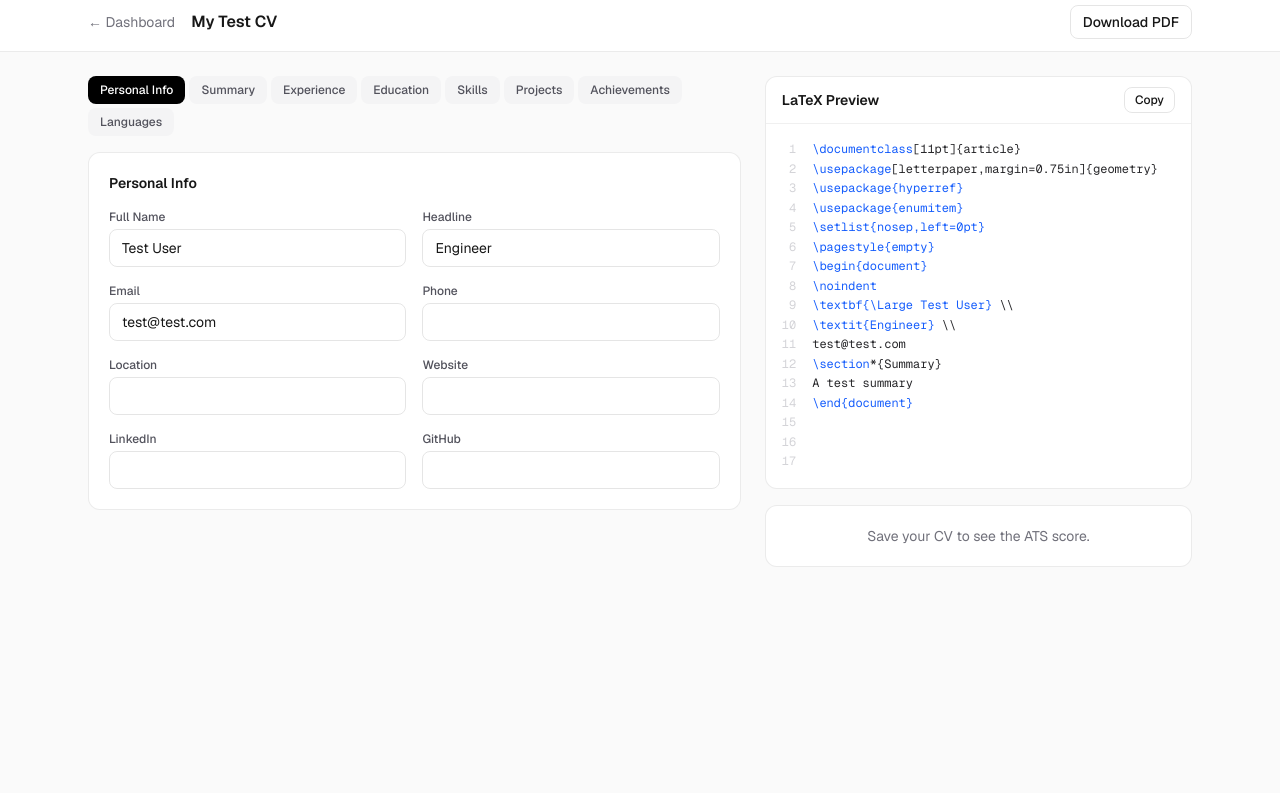
Test case: EditorClient › editing summary updates LaTeX preview and ATS score via composed runtime
expect the heading "My Test CV" is shown: met, box left=191, top=10, right=277, bottom=34
expect the heading "LaTeX Preview" is shown: met, box left=782, top=90, right=879, bottom=110
Click the Summary tab to access the text editor
Click the button "Summary": (228, 90) left=189, top=76, right=267, bottom=104
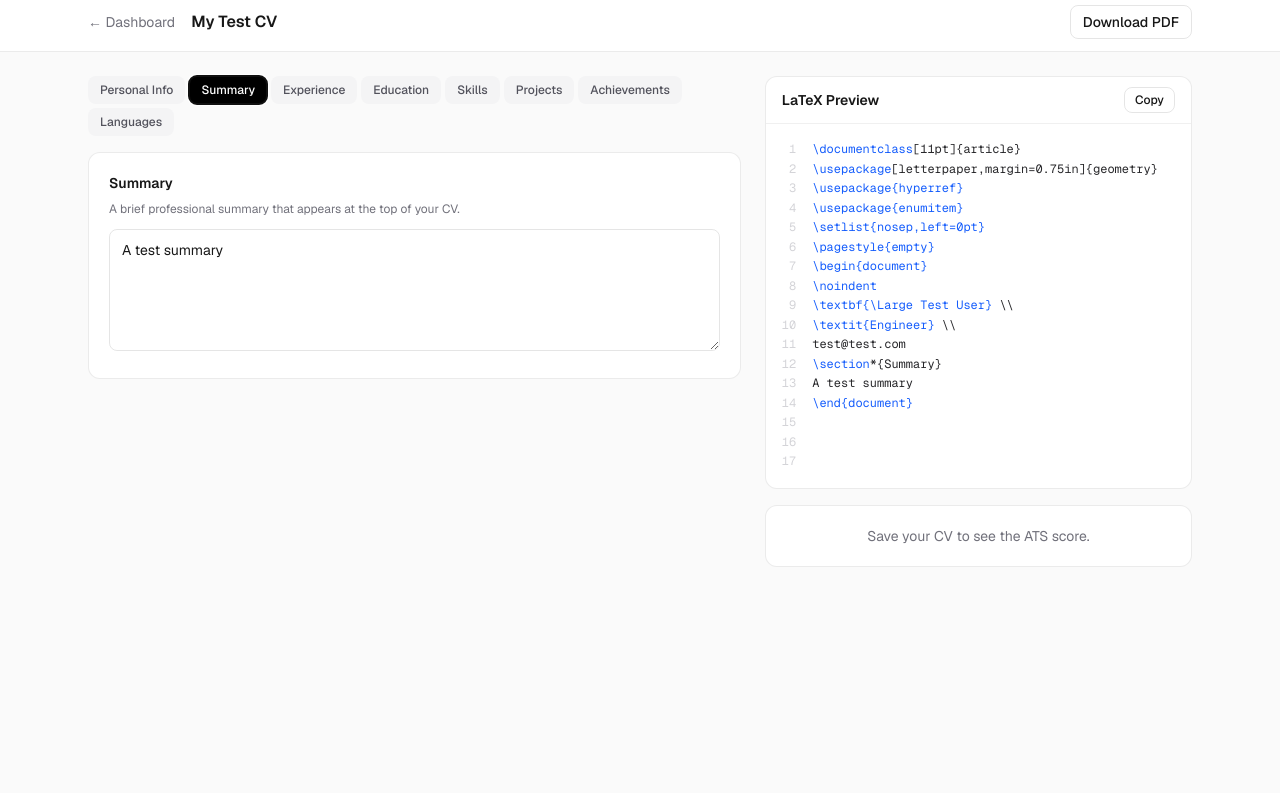
Replace the text in the text box with placeholder "Experienced software engineer with a passion for..." with "A much more professional summary": (414, 290) left=109, top=229, right=720, bottom=351
(page scrolled)
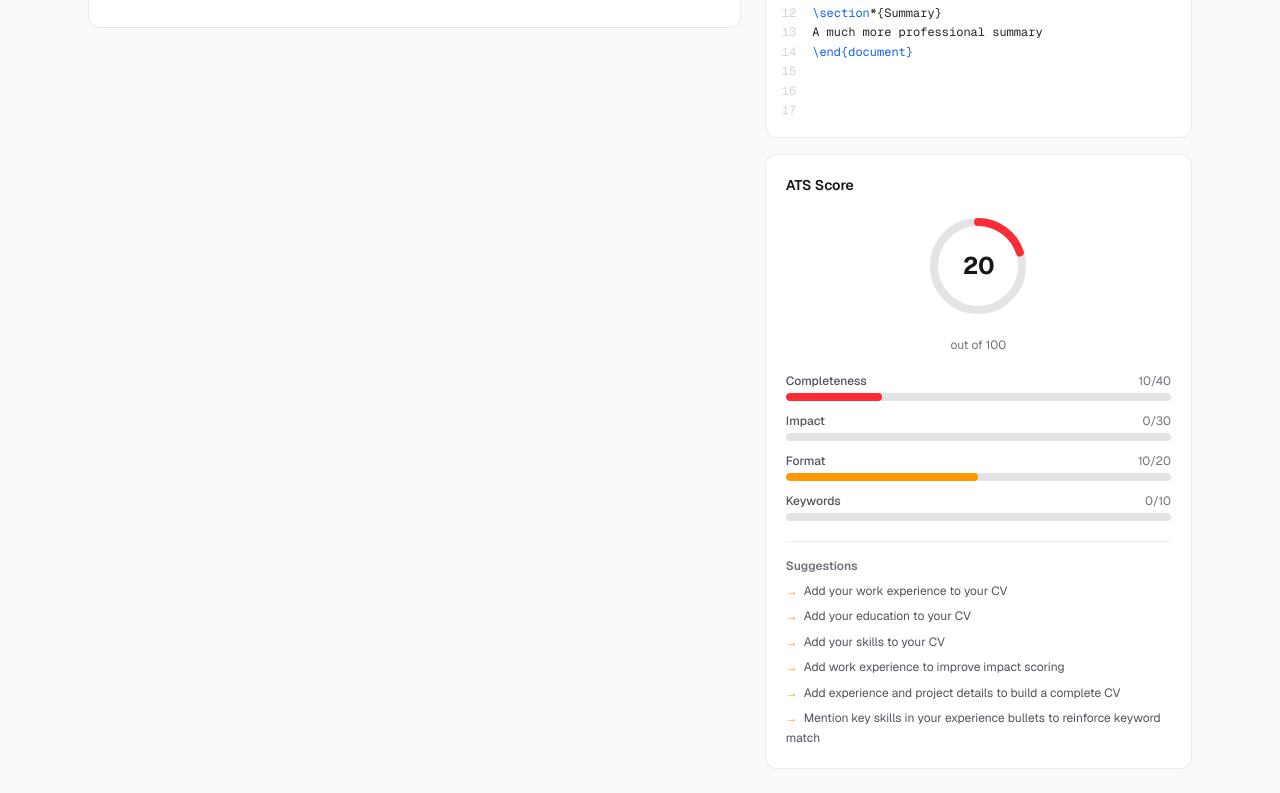
expect the text "Completeness" is shown: met, box left=786, top=372, right=867, bottom=388
expect the text "Suggestions" is shown: met, box left=786, top=558, right=858, bottom=574
